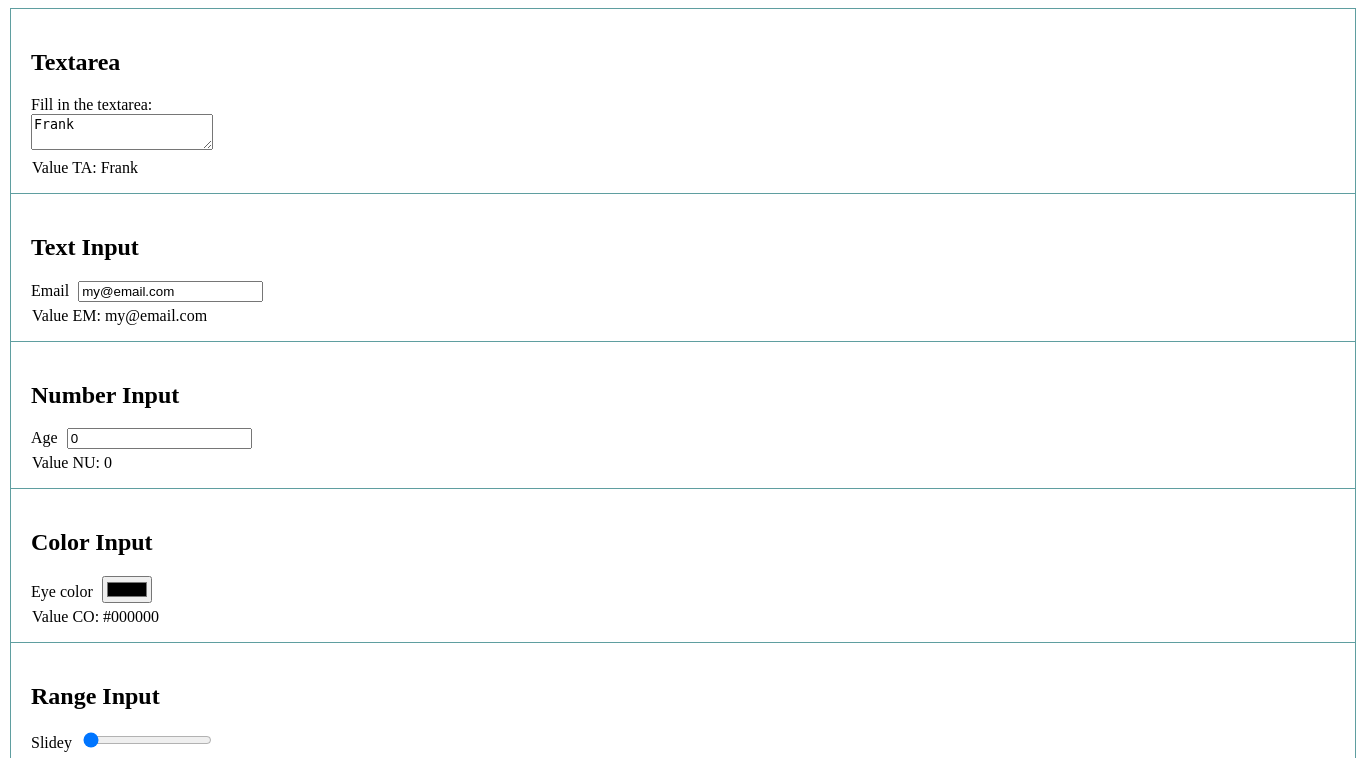
Scenario: updating number inputs should work
Replace the text in the number field labelled "Age" with "25": [159, 439] box [67,428,252,449]
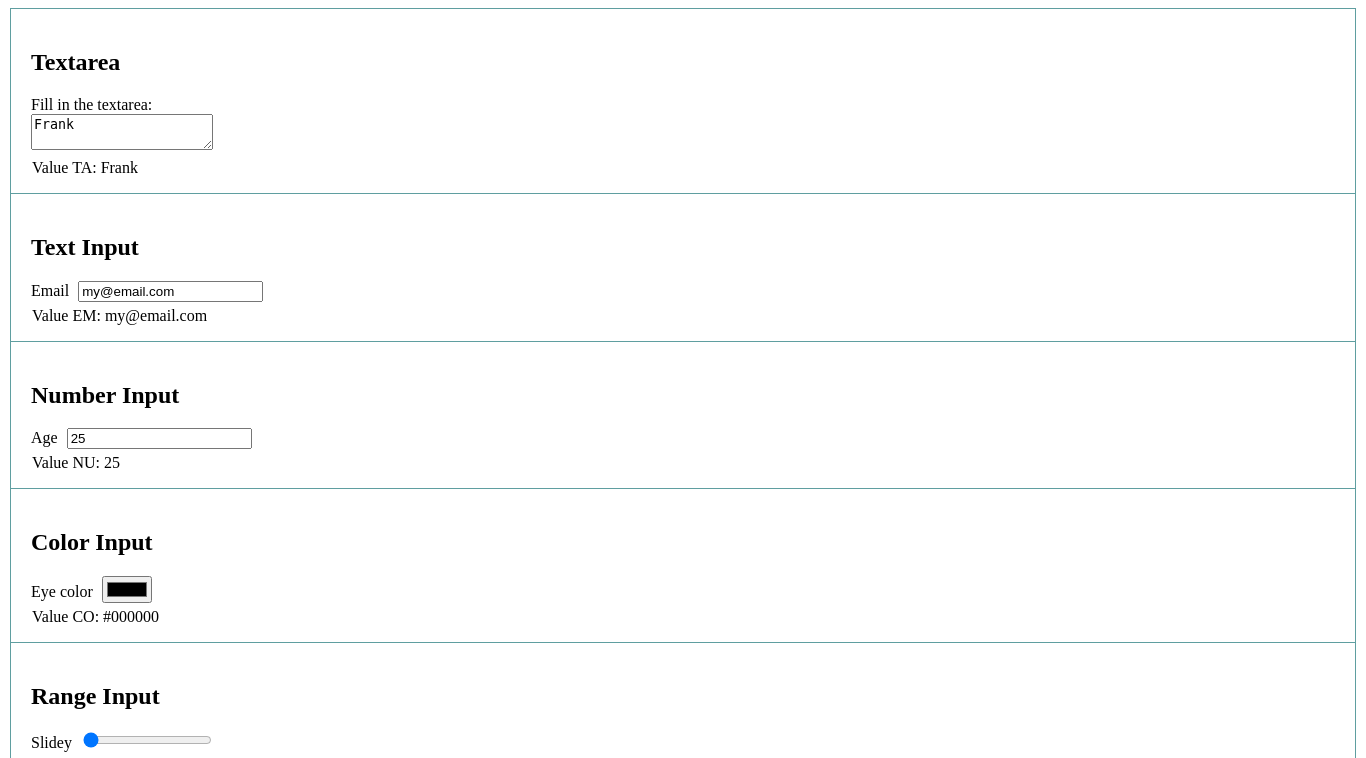
Expected: the text "Value NU: 25" is shown, [32,454,120,471]
